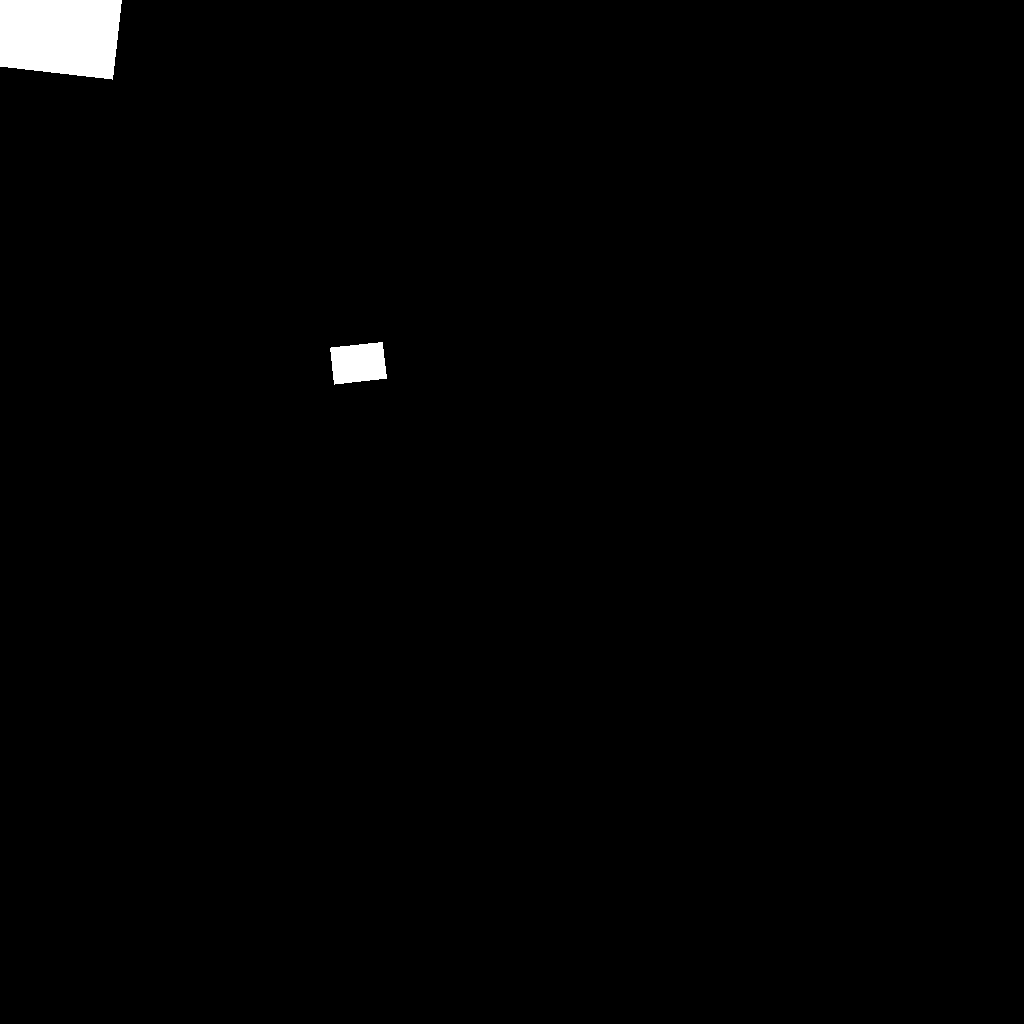building: (0, 0, 123, 80), (330, 342, 388, 385)
